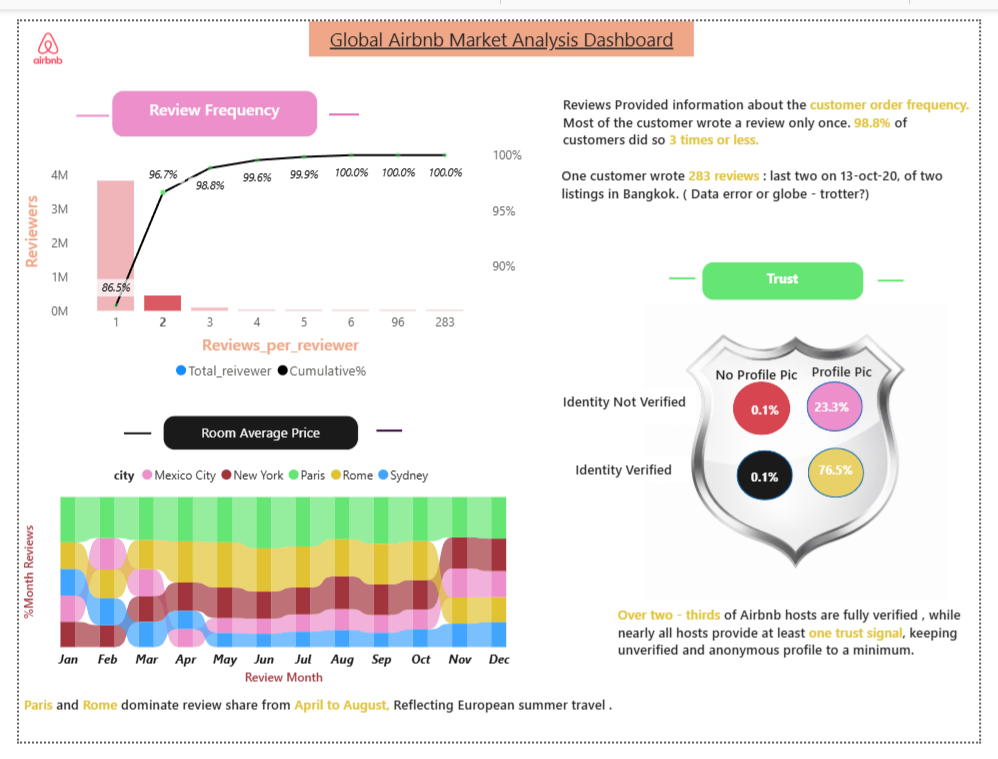

This screenshot's page, from the dashboard's own definition file:
{"tool":"powerbi","page":{"name":"Reviews","canvas":[960,720],"ordinal":2},"visuals":[{"type":"textbox","box":[10,0,280,280],"z":0},{"type":"textbox","box":[290,0,385,35],"z":1000},{"type":"image","box":[0,0,58,61],"z":2000},{"type":"textbox","box":[92.5,68.8,206.2,47.5],"z":3000},{"type":"shape","box":[57.5,77.5,32.5,33.8],"z":4000},{"type":"shape","box":[310,76.2,30,33.8],"z":5000},{"type":"textbox","box":[538.8,68.8,417.5,67.5],"z":6000},{"type":"textbox","box":[143.8,393.8,196.2,35],"z":7000},{"type":"textbox","box":[537.5,140,410,48.9],"z":8000},{"type":"shape","box":[357.5,392.5,25.6,33.3],"z":9000},{"type":"shape","box":[105,393.8,27.5,36.2],"z":10000},{"type":"textbox","box":[682.5,240,162.2,38.9],"z":11000},{"type":"shape","box":[650,240,26.2,33.8],"z":12000},{"type":"shape","box":[858.8,242.5,25.6,33.3],"z":13000},{"type":"textbox","box":[0,668.8,738.9,51.1],"z":15000},{"type":"lineStackedColumnComboChart","fields":{"Category":["Reviews.Reviews_per_reviewer"],"Y":["Reviews.Total_reivewer"],"Y2":["Reviews.Cumulative%"]},"box":[0,117.5,508.8,250],"z":16000},{"type":"image","box":[592.5,282.5,367.5,303.8],"z":17000},{"type":"shape","box":[713.8,360,57.5,53.8],"z":18000},{"type":"shape","box":[788.8,426.2,56.2,50],"z":19000},{"type":"shape","box":[717.5,428.8,56.2,50],"z":20000},{"type":"shape","box":[787.5,360,56.2,50],"z":21000},{"type":"cardVisual","fields":{"Data":["Listings.Verified_NoProfile %"]},"box":[702.5,428.8,86.2,51.2],"z":22000},{"type":"cardVisual","fields":{"Data":["Listings.Not_verified_Profile%"]},"box":[758.8,355,108.8,58.8],"z":23000},{"type":"cardVisual","fields":{"Data":["Listings.Verified_Profile %"]},"box":[762.5,417.5,108.8,58.8],"z":24000},{"type":"cardVisual","fields":{"Data":["Listings.NotVerified_NoProfile %"]},"box":[700,355,92.5,63.8],"z":25000},{"type":"textbox","box":[691.2,338.8,108.8,33.8],"z":26000},{"type":"textbox","box":[787.5,336.2,80,37.5],"z":27000},{"type":"textbox","box":[538.8,366.2,137.5,37.5],"z":28000},{"type":"textbox","box":[551.2,433.8,120,27.5],"z":29000},{"type":"ribbonChart","fields":{"Y":["Reviews.%Month Reviews"],"Series":["Listings.city"],"Category":["Reviews.Review Month"]},"box":[0,433.8,508.8,235],"z":30000},{"type":"textbox","box":[593.8,578.8,361.2,72.5],"z":31000}]}

Visuals, with their boxes in screenshot pixels (x1, y1, x2, y2), scaled from the page's 960x720 canvas onto the 998x759 screenshot:
textbox: l=10, t=0, r=301, b=295
textbox: l=301, t=0, r=702, b=37
image: l=0, t=0, r=60, b=64
textbox: l=96, t=73, r=311, b=123
shape: l=60, t=82, r=94, b=117
shape: l=322, t=80, r=353, b=116
textbox: l=560, t=73, r=994, b=144
textbox: l=149, t=415, r=353, b=452
textbox: l=559, t=148, r=985, b=199
shape: l=372, t=414, r=398, b=449
shape: l=109, t=415, r=138, b=453
textbox: l=710, t=253, r=878, b=294
shape: l=676, t=253, r=703, b=289
shape: l=893, t=256, r=919, b=291
textbox: l=0, t=705, r=768, b=758
lineStackedColumnComboChart - Reviews.Reviews_per_reviewer x Reviews.Total_reivewer: l=0, t=124, r=529, b=387
image: l=616, t=298, r=997, b=618
shape: l=742, t=380, r=802, b=436
shape: l=820, t=449, r=878, b=502
shape: l=746, t=452, r=804, b=505
shape: l=819, t=380, r=877, b=432
cardVisual - Listings.Verified_NoProfile %: l=730, t=452, r=820, b=506
cardVisual - Listings.Not_verified_Profile%: l=789, t=374, r=902, b=436
cardVisual - Listings.Verified_Profile %: l=793, t=440, r=906, b=502
cardVisual - Listings.NotVerified_NoProfile %: l=728, t=374, r=824, b=441
textbox: l=719, t=357, r=832, b=393
textbox: l=819, t=354, r=902, b=394
textbox: l=560, t=386, r=703, b=426
textbox: l=573, t=457, r=698, b=486
ribbonChart - Reviews.%Month Reviews x Listings.city: l=0, t=457, r=529, b=705
textbox: l=617, t=610, r=993, b=687
